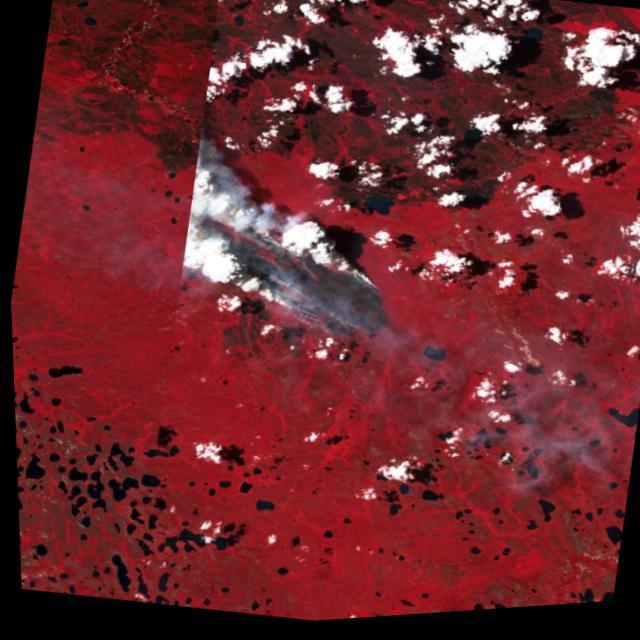fire: (161, 160, 420, 372)
